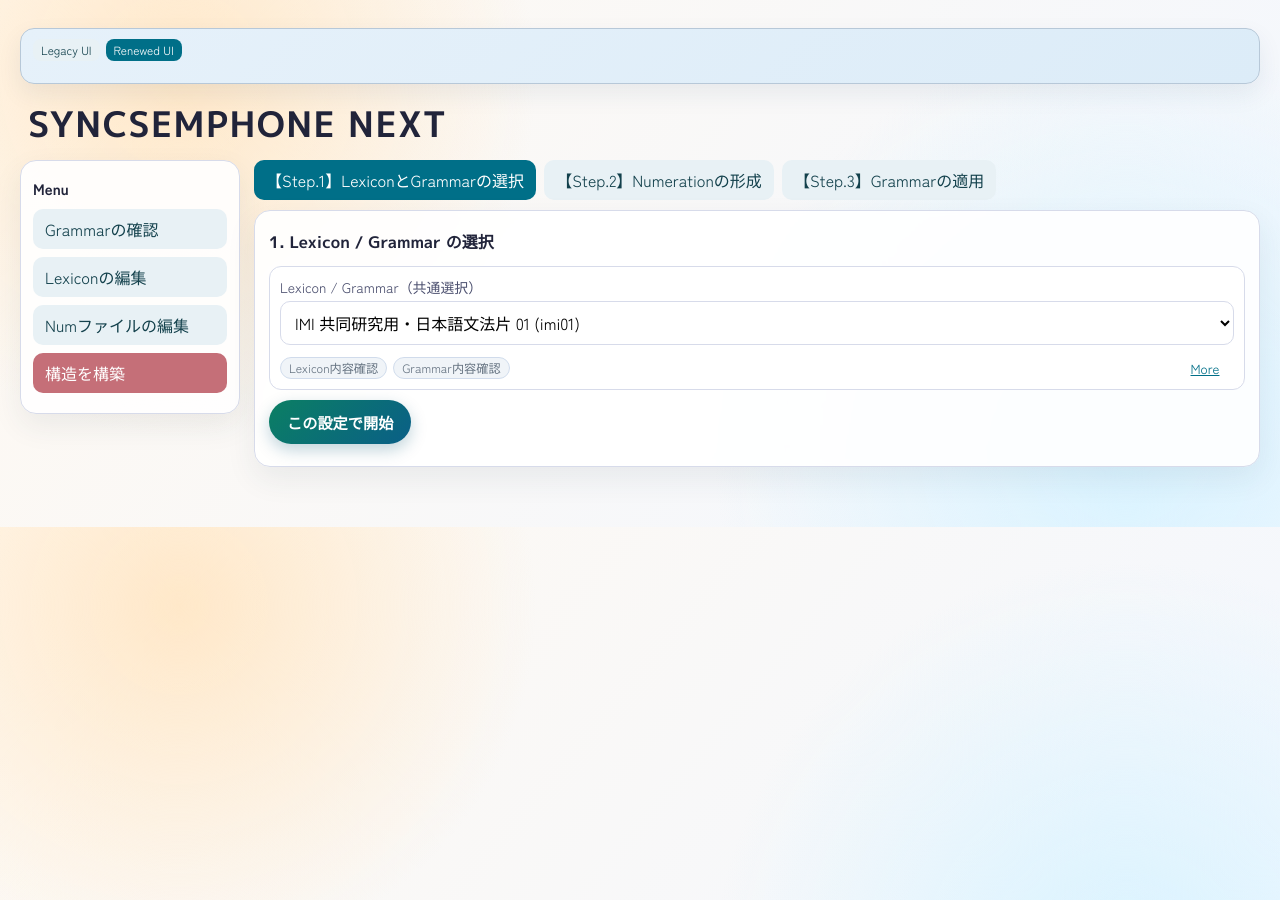
Test case: App › filters lexicon table by clicking category summary chip
Click the button "Lexicon内容確認" at (334, 368), box [280,357,387,379]
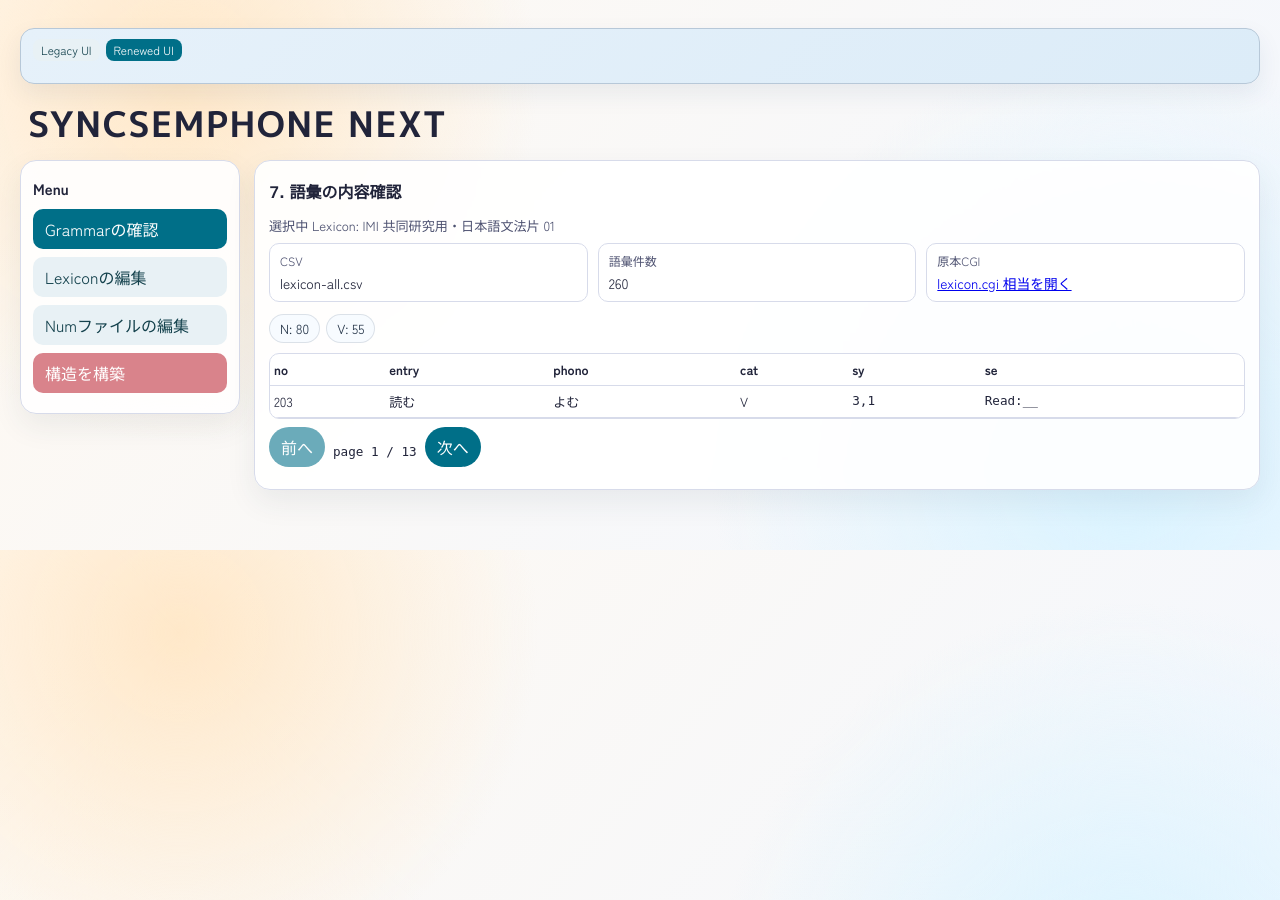
Result: the table with test id "lexicon-inspect-table" shows "読む" at [389,392,415,411]
Click the button "N: 80" at (295, 328), box [269,314,320,343]
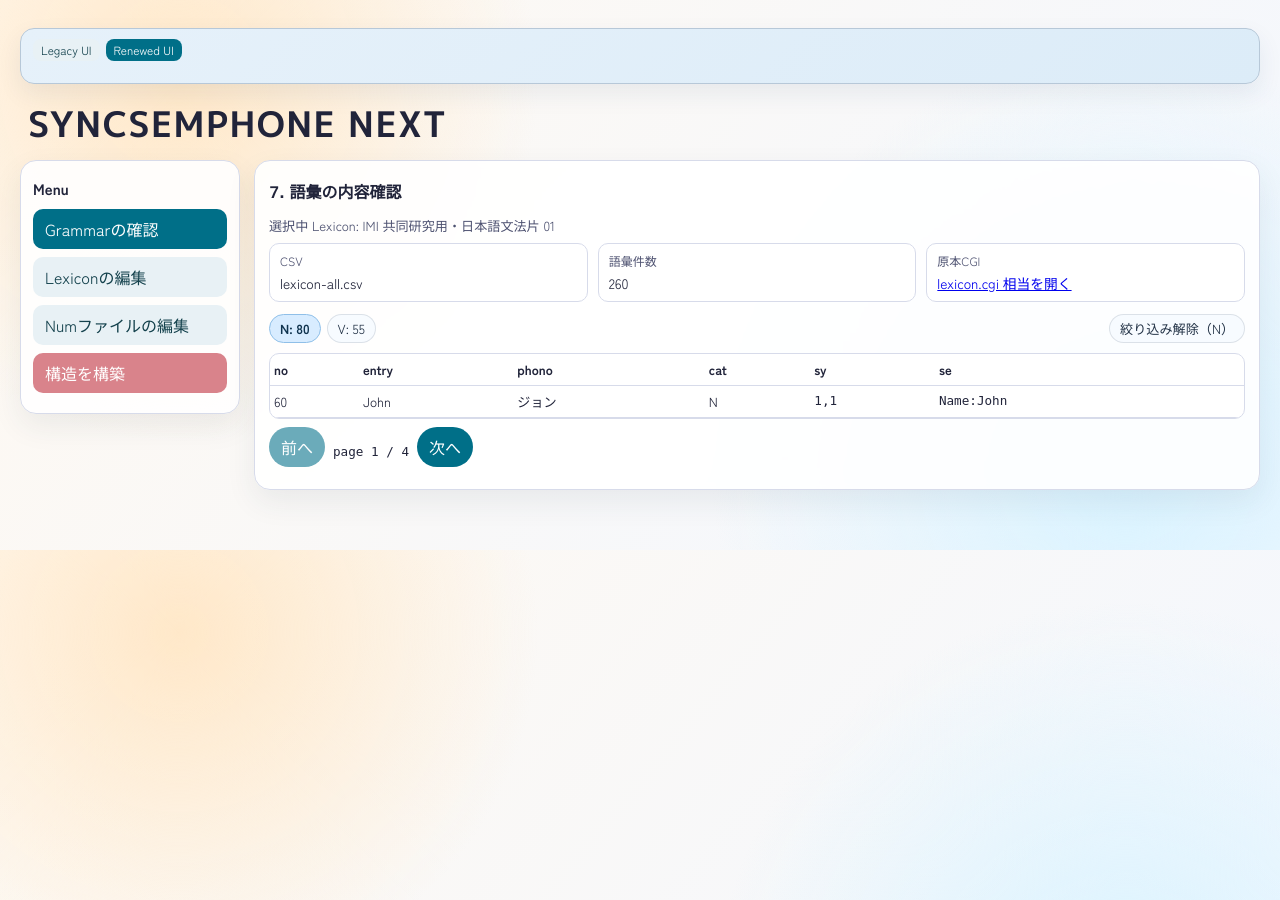
Result: the table with test id "lexicon-inspect-table" shows "John" at [363,392,391,411]
Click the button "絞り込み解除（N）" at (1177, 328), box [1109,314,1245,343]
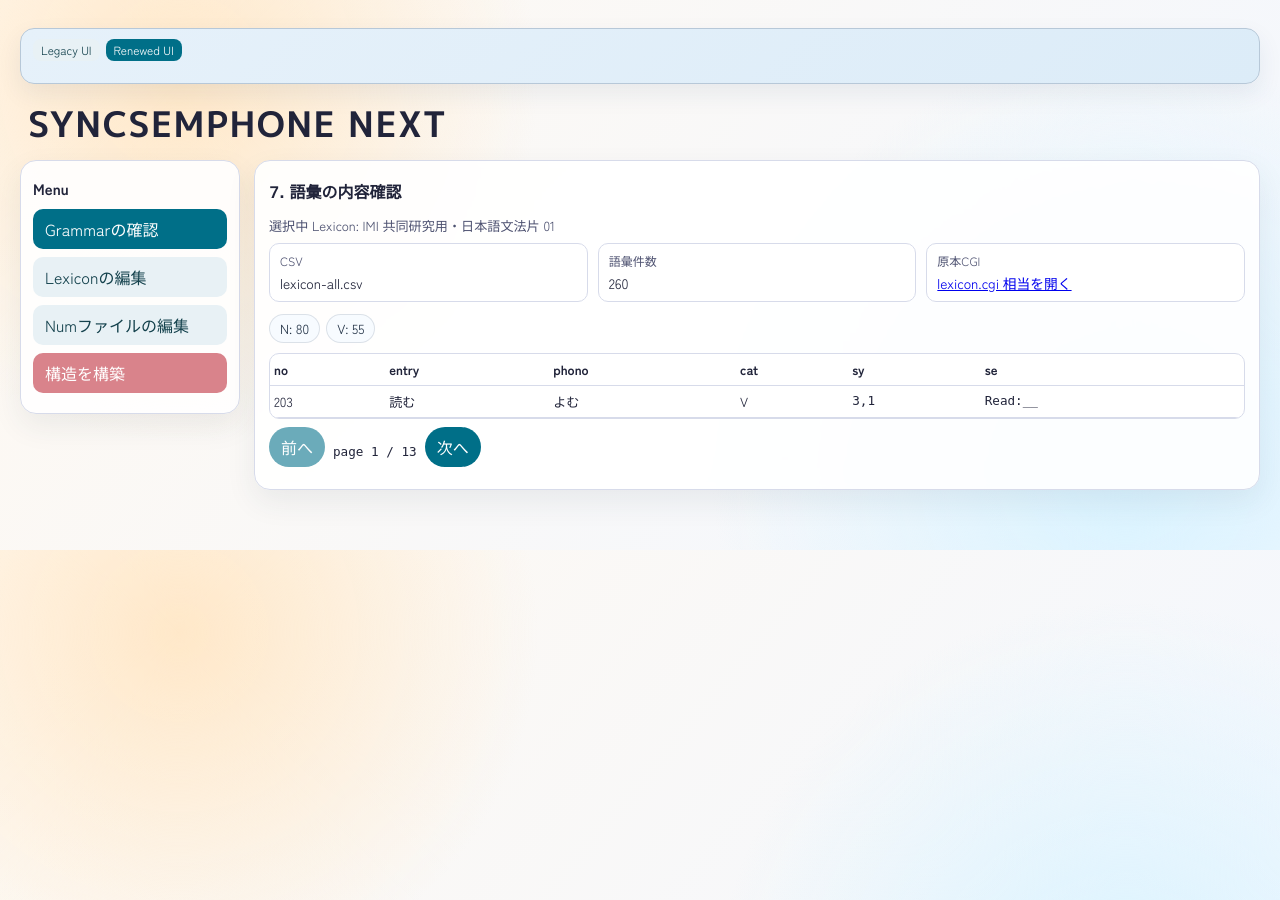
Result: the table with test id "lexicon-inspect-table" shows "読む" at [389,392,415,411]
Result: the button "絞り込み解除（N）" is gone
